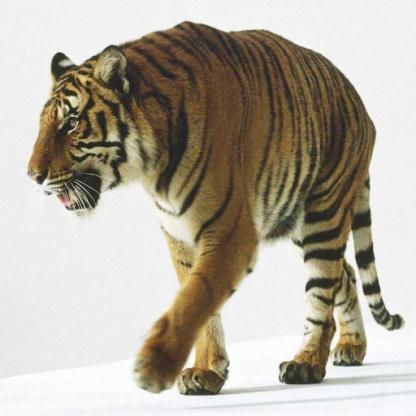Tiger: (31, 23, 400, 376)
